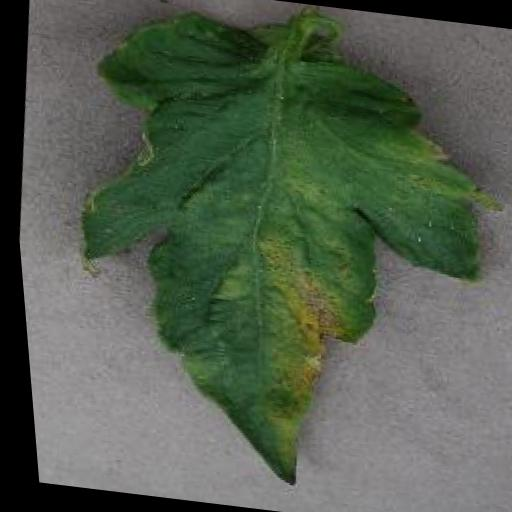Bacterial Spot: (28, 2, 512, 512)
